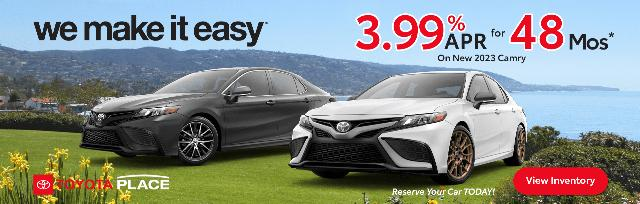toyota: (287, 70, 527, 184), (78, 67, 336, 165)
